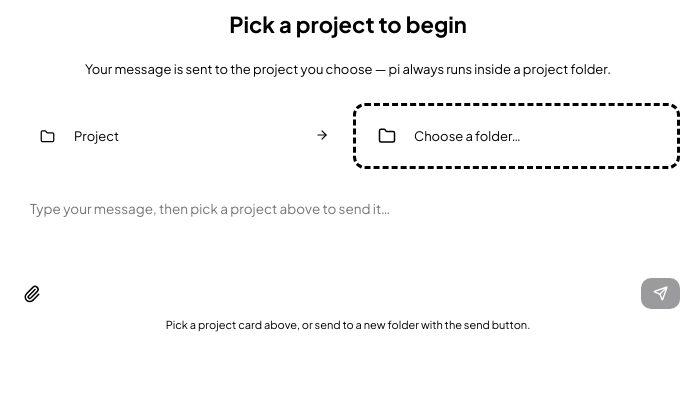
startup project prompt › shows the reason a project could not open on the startup screen
This screenshot has width=697, height=417.
Click the button "Project" at (97, 136), box top-left (16, 103), bottom-right (343, 169)
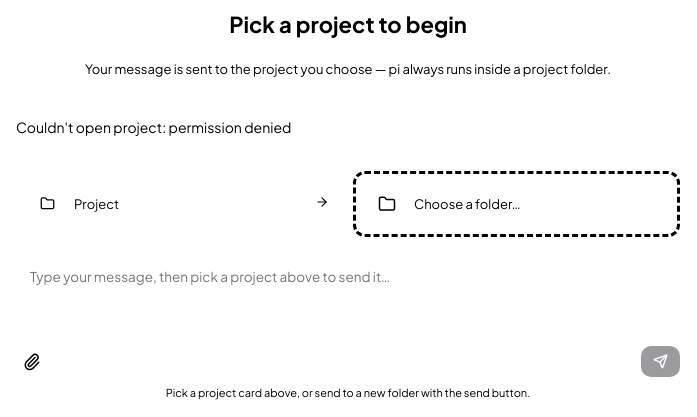
Expected: the text "Couldn't open project: permission denied" is shown, top-left (16, 118), bottom-right (291, 136)
